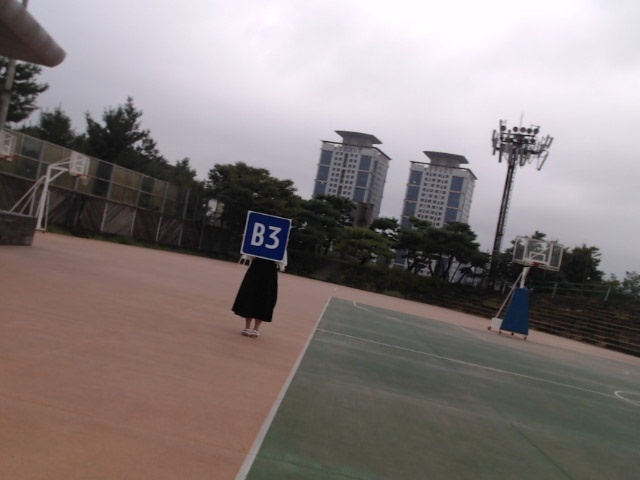delivery_b3: (239, 210, 292, 262)
